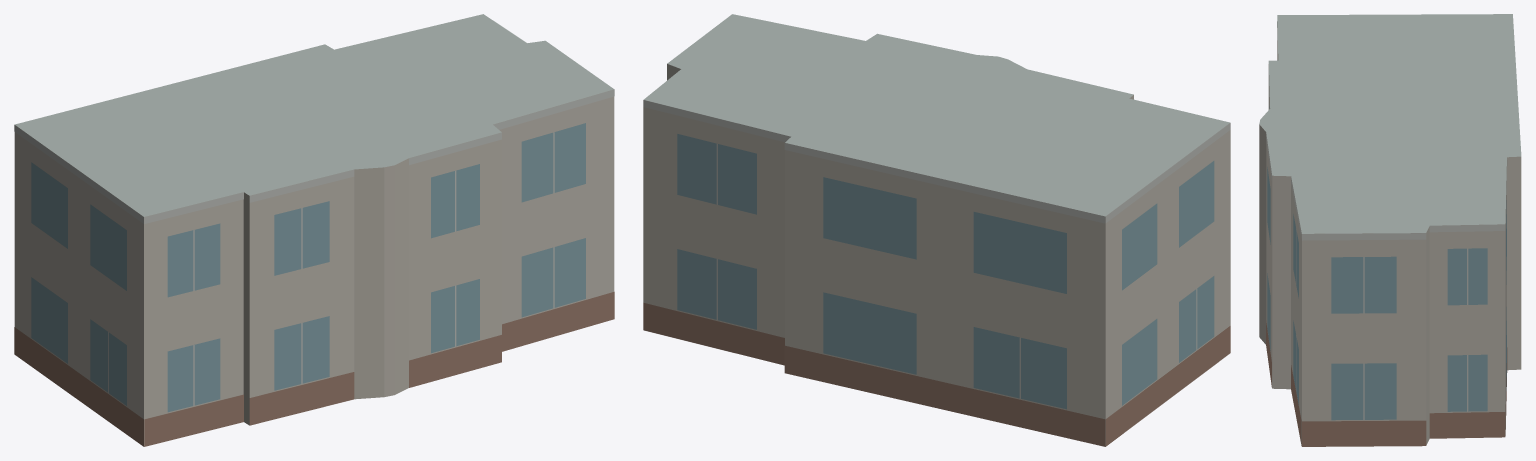
Rendered from survey-upis-32631873.glb.
The picture shows the model from 3 angles, left to right: view 1: azimuth 30°, elevation 25°; view 2: azimuth 150°, elevation 25°; view 3: azimuth 270°, elevation 25°; orthographic projection. The views are drawn at different scales.
Parts seen in each view (by area): view 1: survey-upis-32631873.tmp; view 2: survey-upis-32631873.tmp; view 3: survey-upis-32631873.tmp.
Part boxes in pixels (x1,y1,x2,y2): survey-upis-32631873.tmp: (14, 14, 614, 446); survey-upis-32631873.tmp: (643, 14, 1230, 446); survey-upis-32631873.tmp: (1259, 14, 1521, 446).
Bounding box in the file's own units: 17.39 × 7.85 × 8.76.
